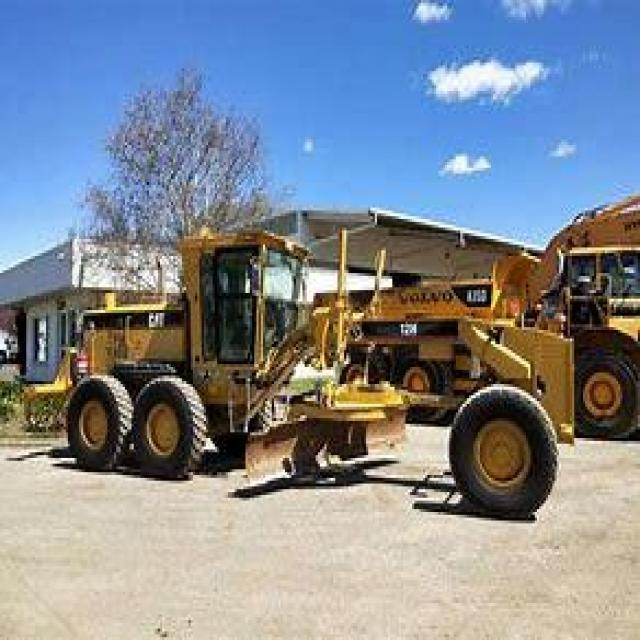Grader: (55, 222, 576, 532)
